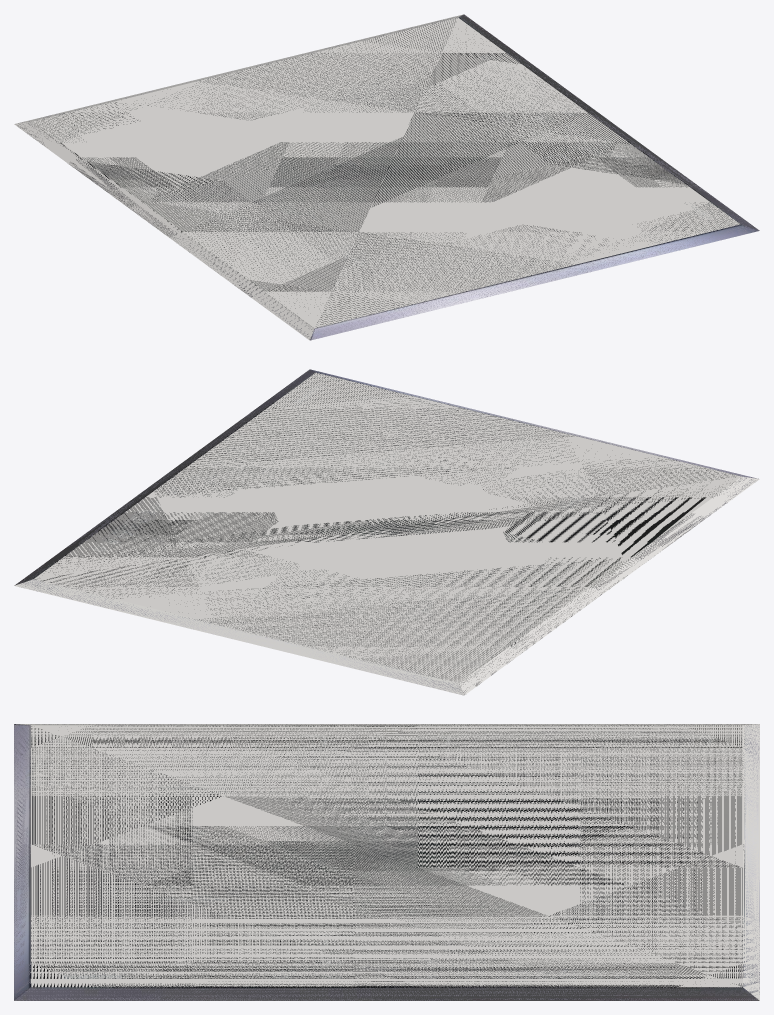
File: induction.fbx
3 views of the same model, one above another, from view 1: azimuth 30°, elevation 25°; view 2: azimuth 150°, elevation 25°; view 3: azimuth 270°, elevation 25° (orthographic). The views are drawn at different scales.
Visible parts, largest first — view 1: Composant_1_1; view 2: Composant_1_1; view 3: Composant_1_1.
Part boxes in pixels (box(x1,y1,x2,y2)): Composant_1_1: box(14, 14, 759, 340); Composant_1_1: box(14, 369, 759, 695); Composant_1_1: box(14, 724, 759, 1000).
Bounding box in the file's own units: 0.5051 × 0.005 × 0.575.
